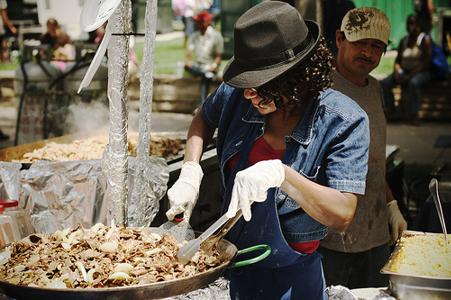person: (165, 1, 369, 300)
